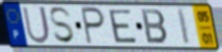B: (139, 7, 170, 46)
E: (106, 8, 139, 45)
I: (176, 8, 192, 47)
P: (80, 6, 107, 47)
S: (48, 6, 77, 45)
U: (21, 5, 52, 46)
